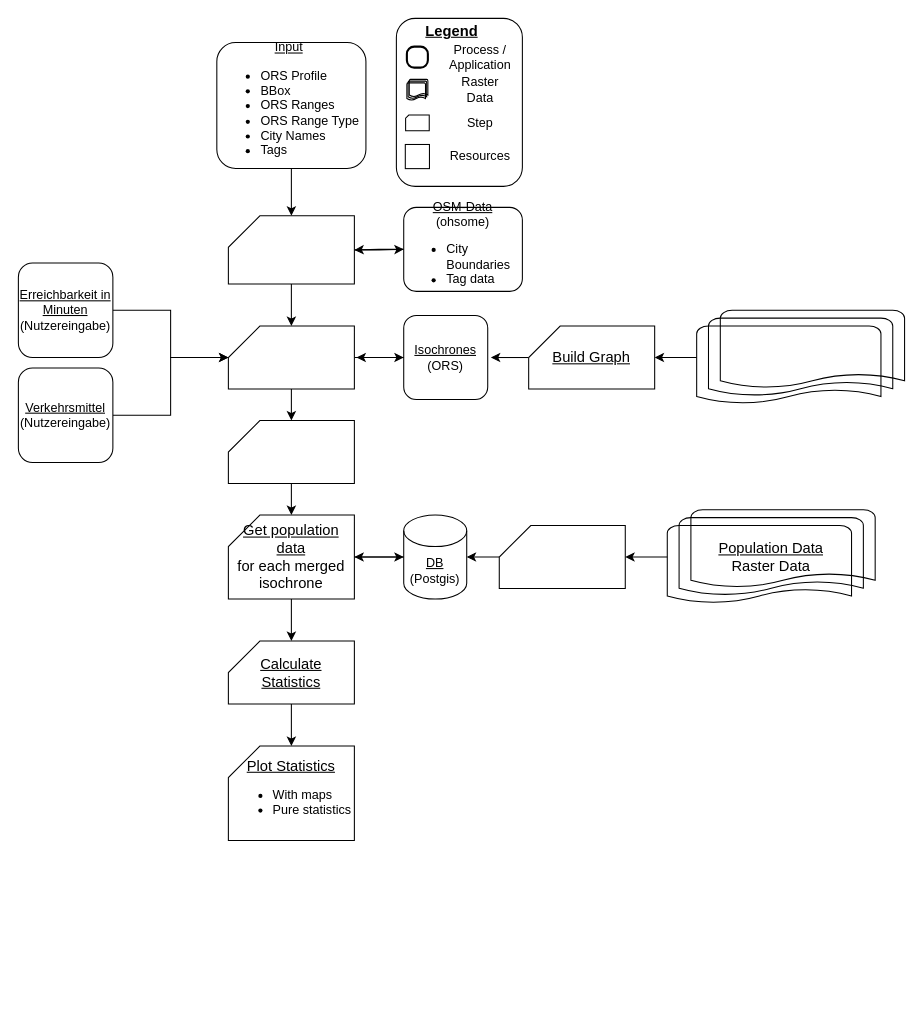
Some shapes in this 923 by 1016 pixel diagram are drawn without their labels. Here are the shapes that lost their labels. From the top down, the centre of each, then its label:
At point (290, 249): "Crawl tag data".
At point (290, 357): "Calculate Isochrones one for each tag object".
At point (800, 357): "Germany OpenstreetMap data".
At point (290, 451): "Merge all isochrones of the same tag class".
At point (561, 556): "Import".
